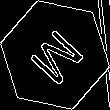M_SE: (22, 21, 88, 89)
